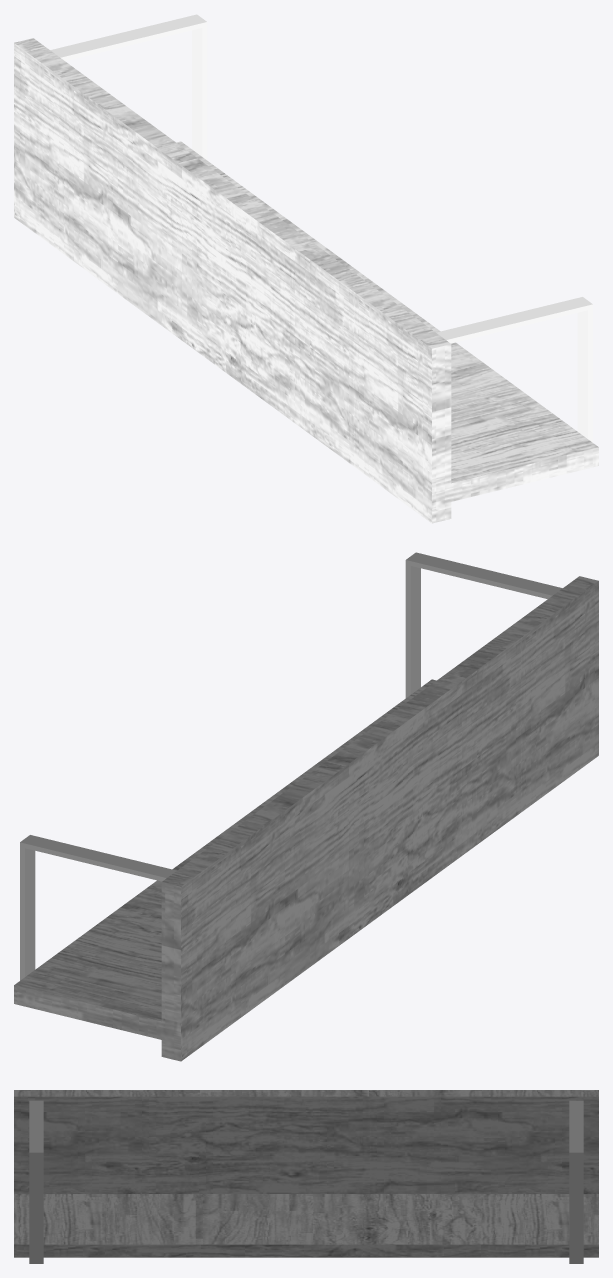
File: FP327:TopShelf(3)_b6a4381c.obj
3 renders of one model, top to bottom at view 1: azimuth 30°, elevation 25°; view 2: azimuth 150°, elevation 25°; view 3: azimuth 270°, elevation 25°, orthographic. The views are drawn at different scales.
Visible parts, largest first — view 1: FP327:TopShelf_(3)_b6a4381c; view 2: FP327:TopShelf_(3)_b6a4381c; view 3: FP327:TopShelf_(3)_b6a4381c.
Part boxes in pixels (box(x1,y1,x2,y2)): FP327:TopShelf_(3)_b6a4381c: box(14, 14, 598, 523); FP327:TopShelf_(3)_b6a4381c: box(14, 552, 598, 1061); FP327:TopShelf_(3)_b6a4381c: box(14, 1090, 598, 1263).
Size of the model in its own units: 0.309 by 0.3 by 1.3.
